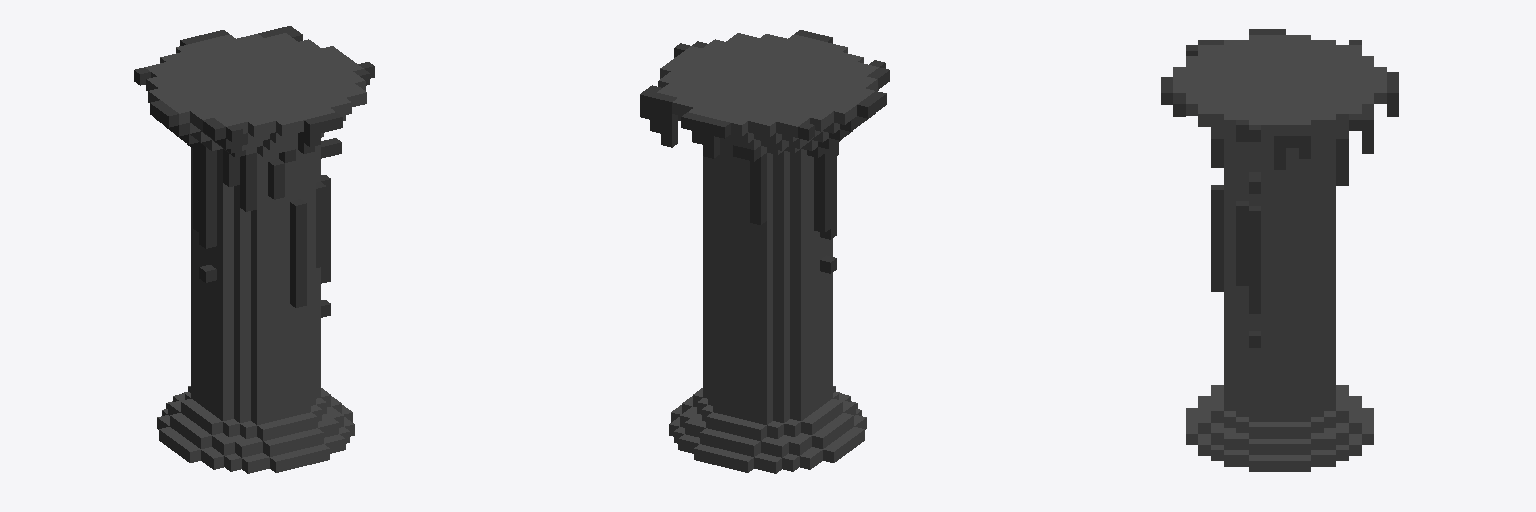
3 views of the same model, side by side, from view 1: azimuth 30°, elevation 25°; view 2: azimuth 150°, elevation 25°; view 3: azimuth 270°, elevation 25° (orthographic).
Parts seen in each view (by area): view 1: Model; view 2: Model; view 3: Model.
Boxes of the visible parts, x1=… form: Model: x1=134, y1=26, x2=374, y2=473; Model: x1=640, y1=30, x2=889, y2=473; Model: x1=1161, y1=29, x2=1398, y2=471.
Bounding box in the file's own units: 19.61 × 32 × 19.61.
Materials: 1 (1 with a texture image).